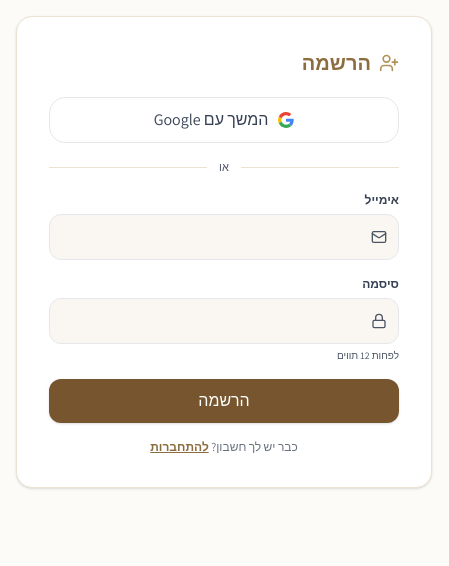
RegisterPage › shows the signUp error
In the field labelled "אימייל": coordinates (224, 236) [49, 214, 399, 260], type "a@b.com"
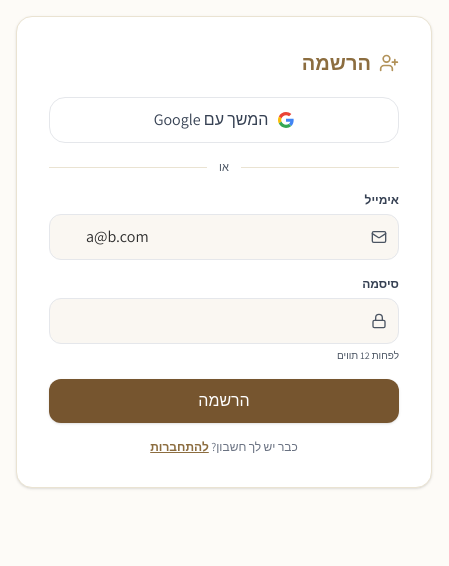
In the password field labelled "סיסמה": coordinates (224, 320) [49, 298, 399, 344], type "StrongPass123!"
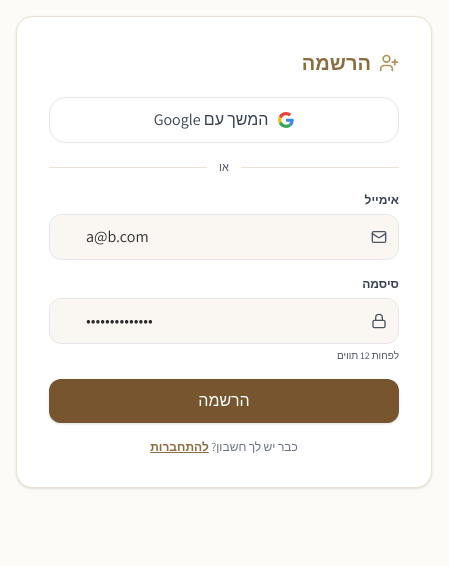
Click the button "הרשמה": coordinates (224, 400) [49, 378, 399, 422]
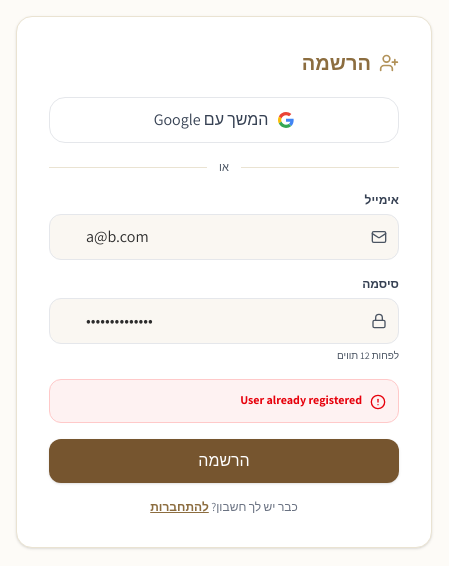
Check: the text "User already registered" is shown, box [49, 378, 399, 422]
